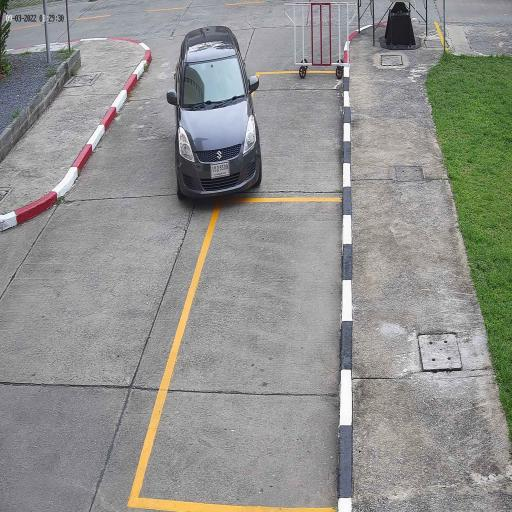car: (172, 24, 264, 201)
